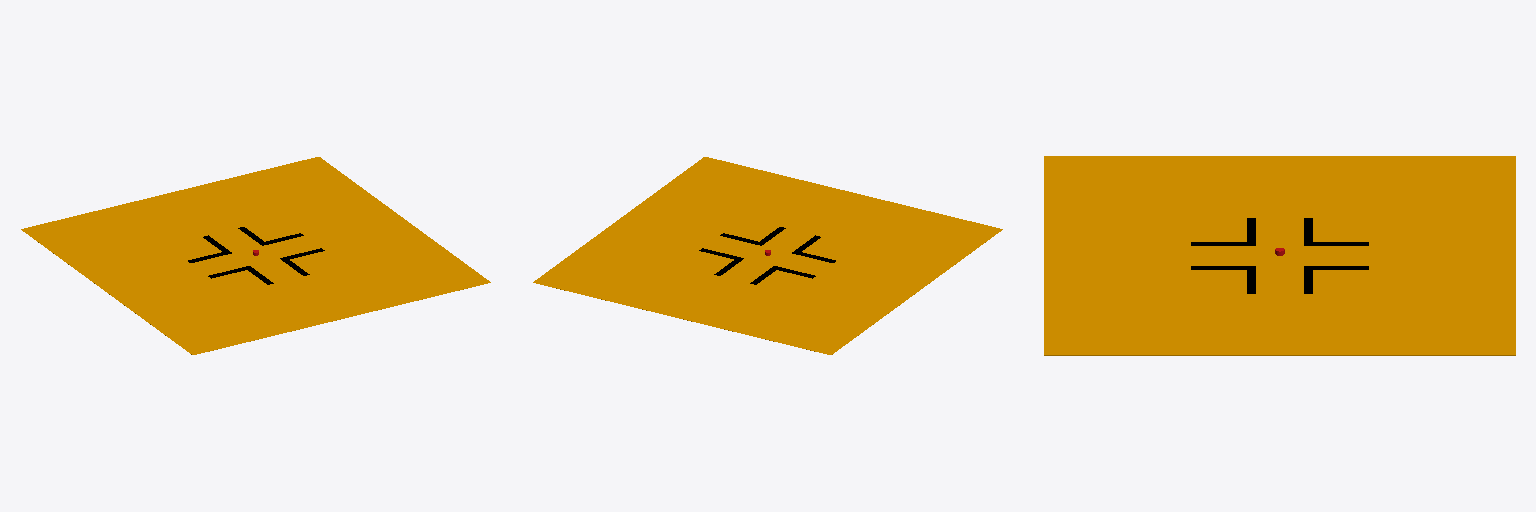
robot.urdf — robot:
<?xml version="1.0" encoding="utf-8"?>

<robot name="robot">

    <material name="black">
        <color rgba="0 0 0 1"/>
    </material>
    <material name="red">
        <color rgba="0.8 0.1 0.1 1"/>
    </material>
    <material name="blue">
        <color rgba="0.1 0.1 0.9 1"/>
    </material>
    <material name="white">
        <color rgba="1 1 1 1"/>
    </material>

    <link name="base_link">
        <origin rpy="0.0 0.0 0.0" xyz="0 0 0.00"/>
        <visual>
            <!-- <origin rpy="0.0 0.0 0.0" xyz="0.0 0.0 0.0"/> -->
            <geometry>
                <box size="5 5 0.001"/>
            </geometry>
        </visual>
    </link>

    <!-- Obstacle L1 (top right) -->
    <link name="obs_L1_1">
        <visual>
            <origin rpy="0.0 0.0 0.0" xyz="0.0 0.0 0.0"/>
            <geometry>
                <box size="0.7 0.1 0.01"/>
            </geometry>
            <material name="black"/>
        </visual>
        <collision>
            <origin rpy="0.0 0.0 0.0" xyz="0.0 0.0 0.0"/>
            <geometry>
                <box size="0.7 0.1 0.15"/>
            </geometry>
        </collision>
        <inertial>
            <mass value="10000"/>
            <inertia ixx="100"  ixy="0"  ixz="0" iyy="100" iyz="0" izz="100" />
        </inertial>
    </link>
    <link name="obs_L1_2">
        <visual>
            <origin rpy="0.0 0.0 0.0" xyz="0.0 0.0 0.0"/>
            <geometry>
                <box size="0.1 0.7 0.01"/>
            </geometry>
            <material name="black"/>
        </visual>
        <collision>
            <origin rpy="0.0 0.0 0.0" xyz="0.0 0.0 0.0"/>
            <geometry>
                <box size="0.1 0.7 0.15"/>
            </geometry>
        </collision>
        <inertial>
            <mass value="10000"/>
            <inertia ixx="100"  ixy="0"  ixz="0" iyy="100" iyz="0" izz="100" />
        </inertial>
    </link>
    <joint name="obs_L1_1" type="fixed">
        <parent link="base_link"/>
        <child link="obs_L1_1"/>
        <origin rpy="0 0 0" xyz="0.6 0.3 0"/>
    </joint>
    <joint name="obs_L1_2" type="fixed">
        <parent link="base_link"/>
        <child link="obs_L1_2"/>
        <origin rpy="0 0 0" xyz="0.3 0.6 0"/>
    </joint>

    <!-- Obstacle L2 (bottom left) -->
    <link name="obs_L2_1">
        <visual>
            <origin rpy="0.0 0.0 0.0" xyz="0.0 0.0 0.0"/>
            <geometry>
                <box size="0.7 0.1 0.01"/>
            </geometry>
            <material name="black"/>
        </visual>
        <collision>
            <origin rpy="0.0 0.0 0.0" xyz="0.0 0.0 0.0"/>
            <geometry>
                <box size="0.7 0.1 0.15"/>
            </geometry>
        </collision>
        <inertial>
            <mass value="10000"/>
            <inertia ixx="100"  ixy="0"  ixz="0" iyy="100" iyz="0" izz="100" />
        </inertial>
    </link>
    <link name="obs_L2_2">
        <visual>
            <origin rpy="0.0 0.0 0.0" xyz="0.0 0.0 0.0"/>
            <geometry>
                <box size="0.1 0.7 0.01"/>
            </geometry>
            <material name="black"/>
        </visual>
        <collision>
            <origin rpy="0.0 0.0 0.0" xyz="0.0 0.0 0.0"/>
            <geometry>
                <box size="0.1 0.7 0.15"/>
            </geometry>
        </collision>
        <inertial>
            <mass value="10000"/>
            <inertia ixx="100"  ixy="0"  ixz="0" iyy="100" iyz="0" izz="100" />
        </inertial>
    </link>
    <joint name="obs_L2_1" type="fixed">
        <parent link="base_link"/>
        <child link="obs_L2_1"/>
        <origin rpy="0 0 0" xyz="-0.6 -0.3 0"/>
    </joint>
    <joint name="obs_L2_2" type="fixed">
        <parent link="base_link"/>
        <child link="obs_L2_2"/>
        <origin rpy="0 0 0" xyz="-0.3 -0.6 0"/>
    </joint>


    <!-- Obstacle L2 (bottom right) -->
     <link name="obs_L3_1">
        <visual>
            <origin rpy="0.0 0.0 0.0" xyz="0.0 0.0 0.0"/>
            <geometry>
                <box size="0.7 0.1 0.01"/>
            </geometry>
            <material name="black"/>
        </visual>
        <collision>
            <origin rpy="0.0 0.0 0.0" xyz="0.0 0.0 0.0"/>
            <geometry>
                <box size="0.7 0.1 0.15"/>
            </geometry>
        </collision>
        <inertial>
            <mass value="10000"/>
            <inertia ixx="100"  ixy="0"  ixz="0" iyy="100" iyz="0" izz="100" />
        </inertial>
    </link>
     <link name="obs_L3_2">
        <visual>
            <origin rpy="0.0 0.0 0.0" xyz="0.0 0.0 0.0"/>
            <geometry>
                <box size="0.1 0.7 0.01"/>
            </geometry>
            <material name="black"/>
        </visual>
        <collision>
            <origin rpy="0.0 0.0 0.0" xyz="0.0 0.0 0.0"/>
            <geometry>
                <box size="0.1 0.7 0.15"/>
            </geometry>
        </collision>
        <inertial>
            <mass value="10000"/>
            <inertia ixx="100"  ixy="0"  ixz="0" iyy="100" iyz="0" izz="100" />
        </inertial>
    </link>
    <joint name="obs_L3_1" type="fixed">
        <parent link="base_link"/>
        <child link="obs_L3_1"/>
        <origin rpy="0 0 0" xyz="0.6 -0.3 0"/>
    </joint>
    <joint name="obs_L3_2" type="fixed">
        <parent link="base_link"/>
        <child link="obs_L3_2"/>
        <origin rpy="0 0 0" xyz="0.3 -0.6 0"/>
    </joint>


     <link name="obs_L4_1">
        <visual>
            <origin rpy="0.0 0.0 0.0" xyz="0.0 0.0 0.0"/>
            <geometry>
                <box size="0.7 0.1 0.01"/>
            </geometry>
            <material name="black"/>
        </visual>
        <collision>
            <origin rpy="0.0 0.0 0.0" xyz="0.0 0.0 0.0"/>
            <geometry>
                <box size="0.7 0.1 0.15"/>
            </geometry>
        </collision>
        <inertial>
            <mass value="10000"/>
            <inertia ixx="100"  ixy="0"  ixz="0" iyy="100" iyz="0" izz="100" />
        </inertial>
    </link>
     <link name="obs_L4_2">
        <visual>
            <origin rpy="0.0 0.0 0.0" xyz="0.0 0.0 0.0"/>
            <geometry>
                <box size="0.1 0.7 0.01"/>
            </geometry>
            <material name="black"/>
        </visual>
        <collision>
            <origin rpy="0.0 0.0 0.0" xyz="0.0 0.0 0.0"/>
            <geometry>
                <box size="0.1 0.7 0.15"/>
            </geometry>
        </collision>
        <inertial>
            <mass value="10000"/>
            <inertia ixx="100"  ixy="0"  ixz="0" iyy="100" iyz="0" izz="100" />
        </inertial>
    </link>
    <joint name="obs_L4_1" type="fixed">
        <parent link="base_link"/>
        <child link="obs_L4_1"/>
        <origin rpy="0 0 0" xyz="-0.6 0.3 0"/>
    </joint>
    <joint name="obs_L4_2" type="fixed">
        <parent link="base_link"/>
        <child link="obs_L4_2"/>
        <origin rpy="0 0 0" xyz="-0.3 0.6 0"/>
    </joint>




    <link name="bot_x">
        <origin rpy="0.0 0.0 0.0" xyz="0.0 0.0 0.0"/>
    </link>

    <link name="bot">
        <visual>
            <origin rpy="0.0 0.0 0.0" xyz="0 0 0.03"/>
            <geometry>
                <cylinder radius="0.05" length="0.05"/>
            </geometry>
            <material name="red"/>
        </visual>
        <collision>
            <origin rpy="0.0 0.0 0.0" xyz="0 0 0.03"/>
            <geometry>
                <cylinder radius="0.05" length="0.05"/>
            </geometry>
        </collision>
        <inertial>
            <origin xyz="0 0 0" rpy="0 0 0"/>
            <mass value="0.2"/>
        </inertial>
    </link>

    <joint name="base_to_bot_x" type="prismatic">
        <parent link="base_link"/>
        <child link="bot_x"/>
        <origin rpy="0 0 0" xyz="0 0 0.01"/>
        <axis xyz="1 0 0"/>
    </joint>

    <joint name="bot_x_to_bot" type="prismatic">
        <parent link="bot_x"/>
        <child link="bot"/>
        <origin rpy="0 0 0" xyz="0 0 0.01"/>
        <axis xyz="0 1 0"/>
    </joint>

</robot>

--- What the picture shows (computed from the rendered views, not written in the file) ---
3 views of the same robot in one strip: view 1: azimuth 30°, elevation 25°; view 2: azimuth 150°, elevation 25°; view 3: azimuth 270°, elevation 25° (orthographic).
Robot: robot — 11 links, 10 joints (2 prismatic, 8 fixed); root link base_link; default pose: all joints at 0.
Links seen in each view (by area): view 1: base_link; view 2: base_link; view 3: base_link.
Boxes of the visible links, x1,y1,x2,y2 form: base_link: [21, 157, 490, 354]; base_link: [533, 157, 1002, 354]; base_link: [1044, 156, 1515, 355].
Bounding box of the posed robot: 5 × 5 × 0.08 m (x, y, z).
Geometry: primitives only (box / cylinder / sphere), no mesh files.